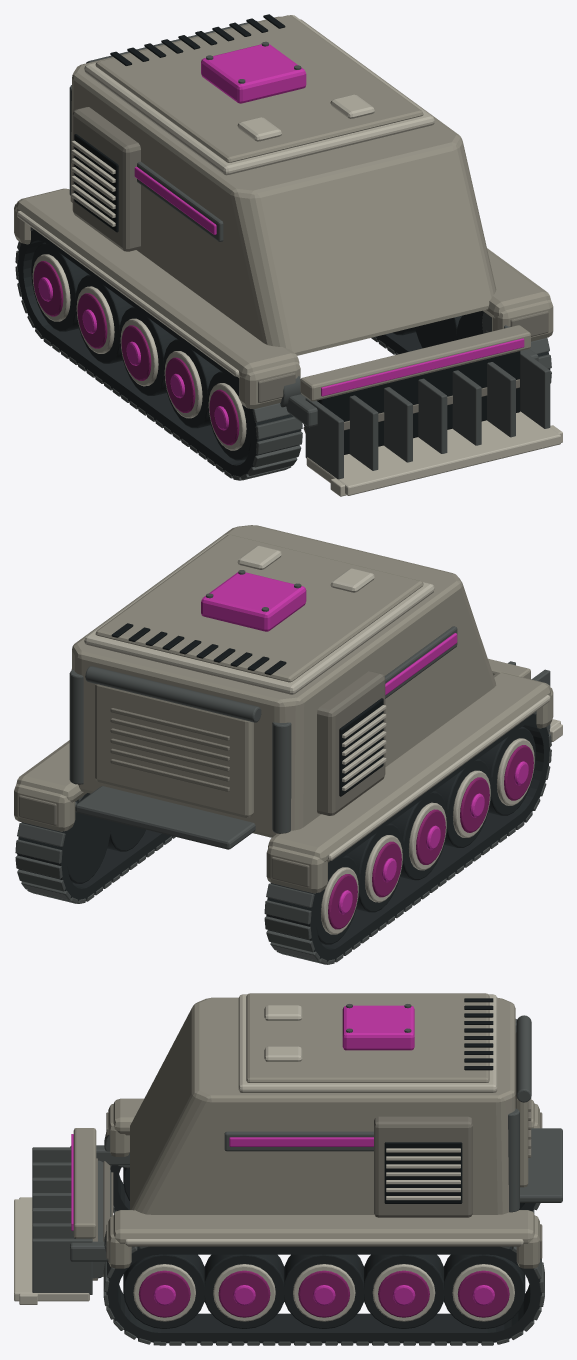
File: harvester.glb
The picture shows the model from 3 angles, top to bottom: view 1: azimuth 30°, elevation 25°; view 2: azimuth 150°, elevation 25°; view 3: azimuth 270°, elevation 25°; orthographic projection. The views are drawn at different scales.
Parts seen in each view (by area): view 1: Hull, Intake, Track_L, Wheel_L_5, Wheel_L_2, Wheel_L_3, Wheel_L_4, Wheel_L_1, Track_R, Wheel_R_2; view 2: Hull, Tailgate, Track_L, Track_R, Wheel_L_4, Wheel_L_3, Wheel_L_1, Wheel_L_2, Wheel_L_5, Wheel_R_5, Intake, Wheel_R_4; view 3: Hull, Track_R, Intake, Wheel_R_2, Wheel_R_3, Wheel_R_4, Wheel_R_1, Wheel_R_5, Rotor, Tailgate, Track_L.
Part boxes in pixels (box(x1,y1,x2,y2)): Hull: box(14, 14, 553, 427); Intake: box(300, 325, 562, 496); Track_L: box(15, 227, 302, 480); Wheel_L_5: box(31, 242, 88, 331); Wheel_L_2: box(163, 339, 220, 428); Wheel_L_3: box(119, 307, 176, 395); Wheel_L_4: box(75, 274, 132, 363); Wheel_L_1: box(207, 371, 251, 460); Track_R: box(371, 310, 551, 383); Wheel_R_2: box(415, 315, 461, 348); Hull: box(14, 525, 553, 893); Tailgate: box(95, 684, 253, 817); Track_L: box(264, 711, 551, 964); Track_R: box(15, 793, 175, 903); Wheel_L_4: box(346, 823, 403, 912); Wheel_L_3: box(390, 791, 447, 880); Wheel_L_1: box(478, 726, 535, 815); Wheel_L_2: box(434, 759, 491, 847); Wheel_L_5: box(316, 855, 359, 944); Wheel_R_5: box(67, 813, 110, 883); Intake: box(488, 658, 562, 741); Wheel_R_4: box(107, 821, 145, 851); Hull: box(70, 993, 562, 1268); Track_R: box(103, 1246, 544, 1345); Intake: box(14, 1128, 96, 1304); Wheel_R_2: box(204, 1254, 284, 1328); Wheel_R_3: box(284, 1254, 364, 1328); Wheel_R_4: box(364, 1254, 443, 1328); Wheel_R_1: box(123, 1254, 204, 1328); Wheel_R_5: box(444, 1254, 525, 1328); Rotor: box(92, 1158, 113, 1280); Tailgate: box(515, 1032, 531, 1187); Track_L: box(110, 1165, 540, 1213).
Bounding box in the file's own units: 3.39 × 2.99 × 5.65.
